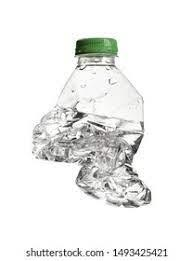plastic: (33, 33, 150, 204)
